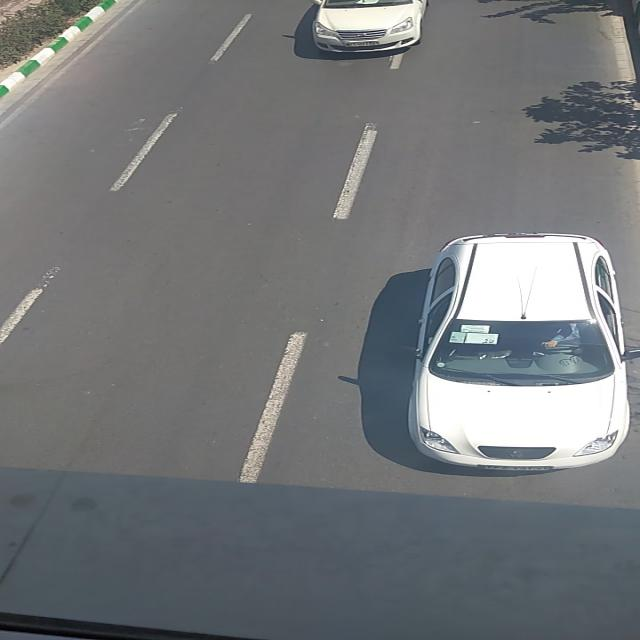car: (403, 233, 639, 472), (307, 1, 428, 53)
